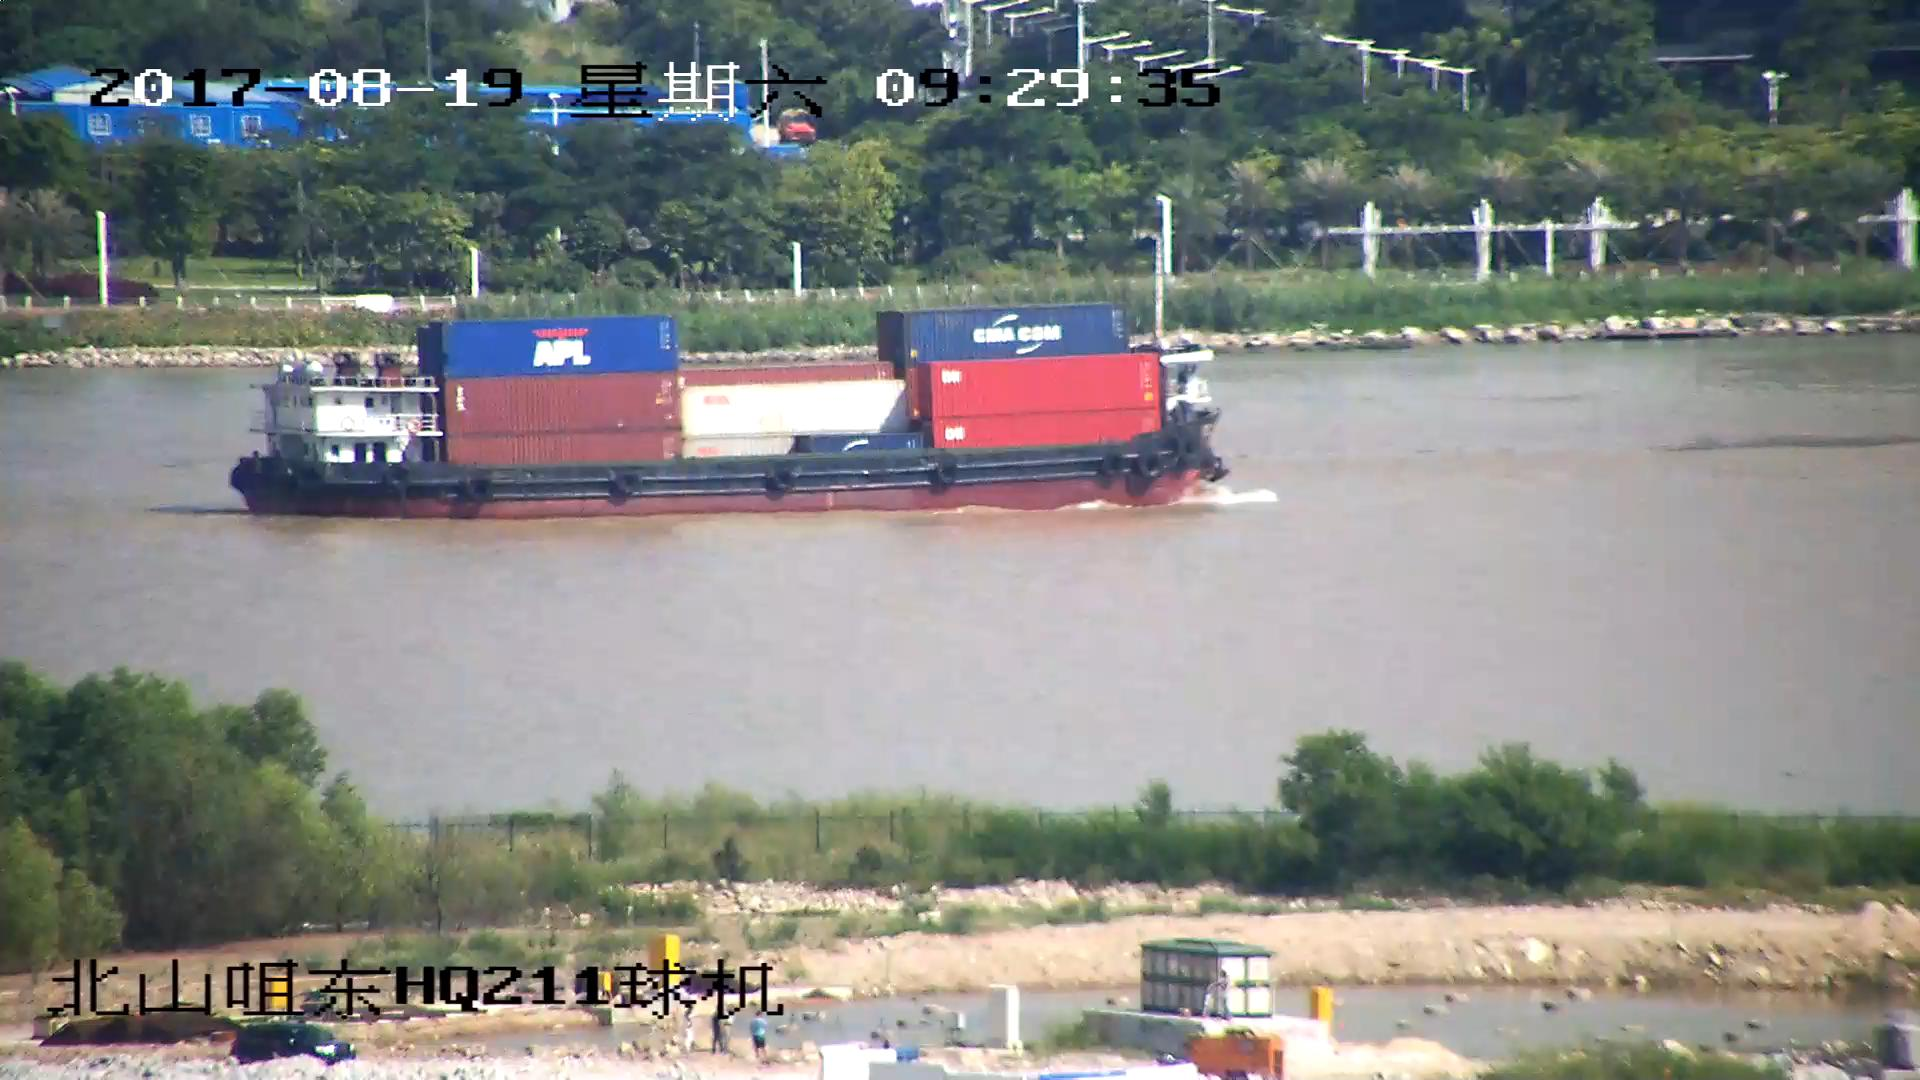container ship: (225, 250, 1235, 516)
